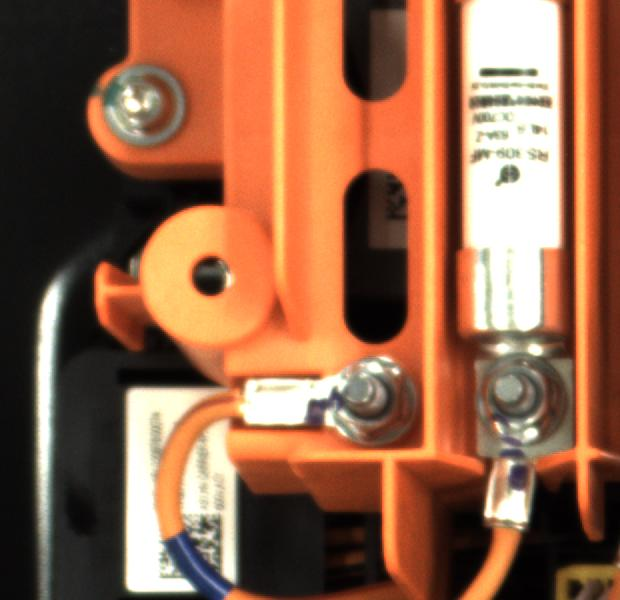screw_m: (91, 62, 206, 149)
screw_s: (321, 350, 426, 447), (472, 353, 573, 442)
